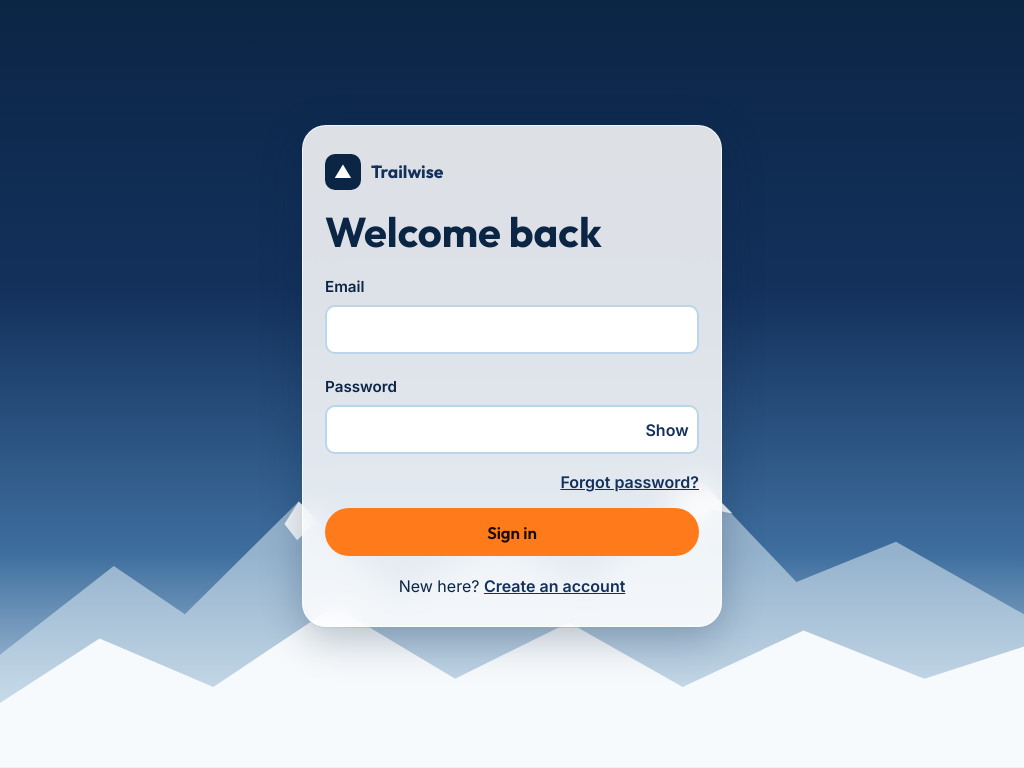
Sign in › sends a user who has not finished onboarding back to onboarding
The width and height of the screenshot is (1024, 768).
Check: the heading "Welcome back" is shown, box [325,205,602,258]
Type "alex@example.com" into the field labelled "Email". click: (512, 330)
box: [325,305,699,354]
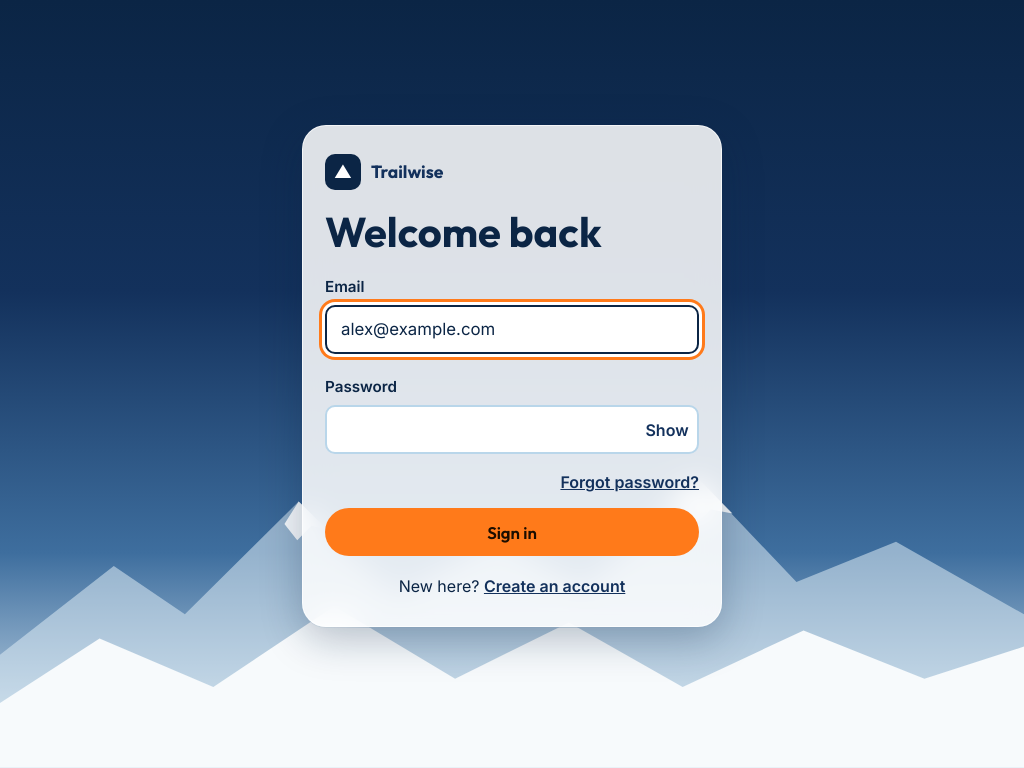
Type "powder123" into the password field labelled "Password". click: (512, 430)
box: [325,405,699,454]
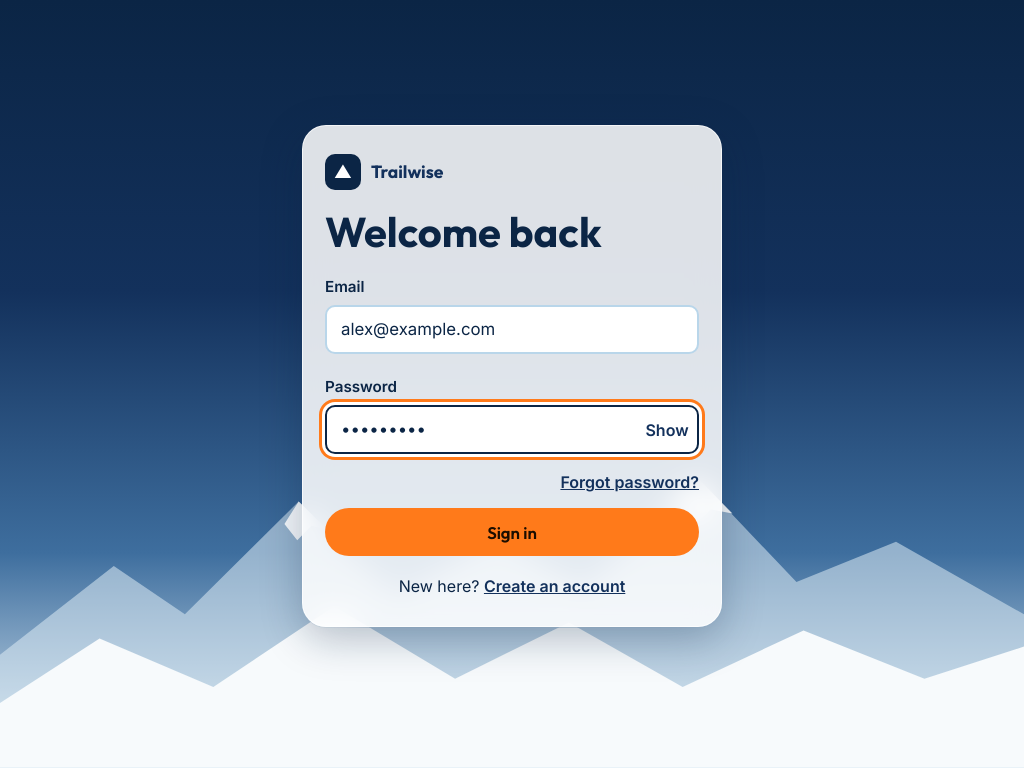
Click the button "Sign in". click: (512, 532)
box: [325,508,699,556]
(page scrolled)
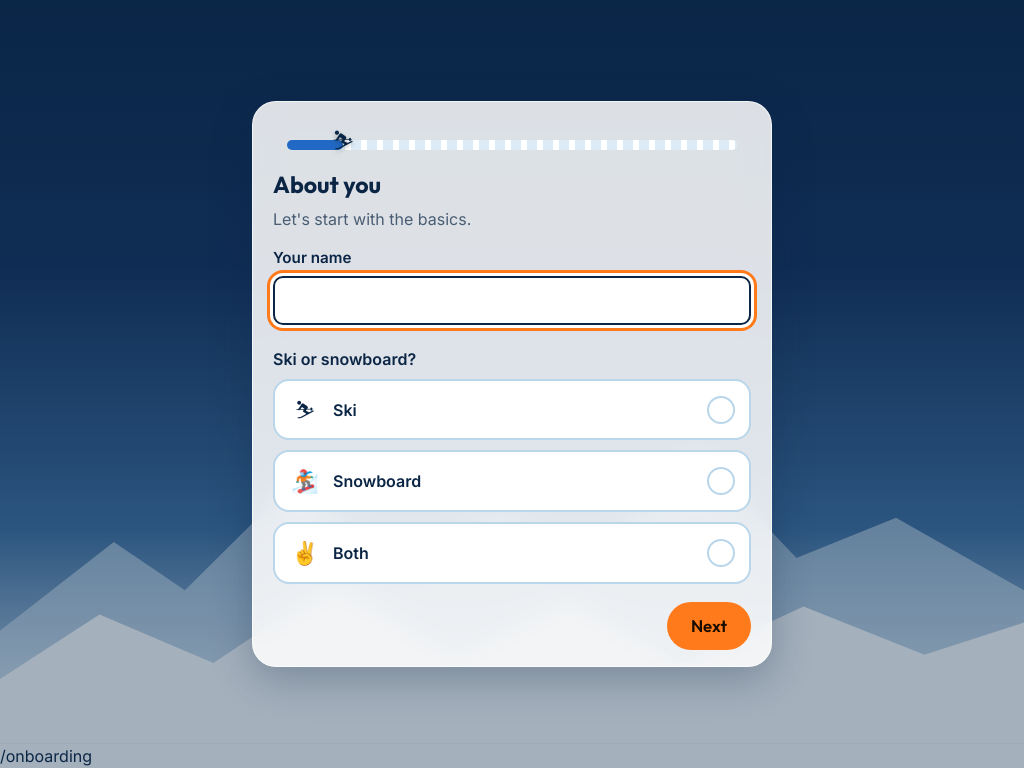
Check: the text with test id "location" reads "/onboarding", box [0,746,92,766]
